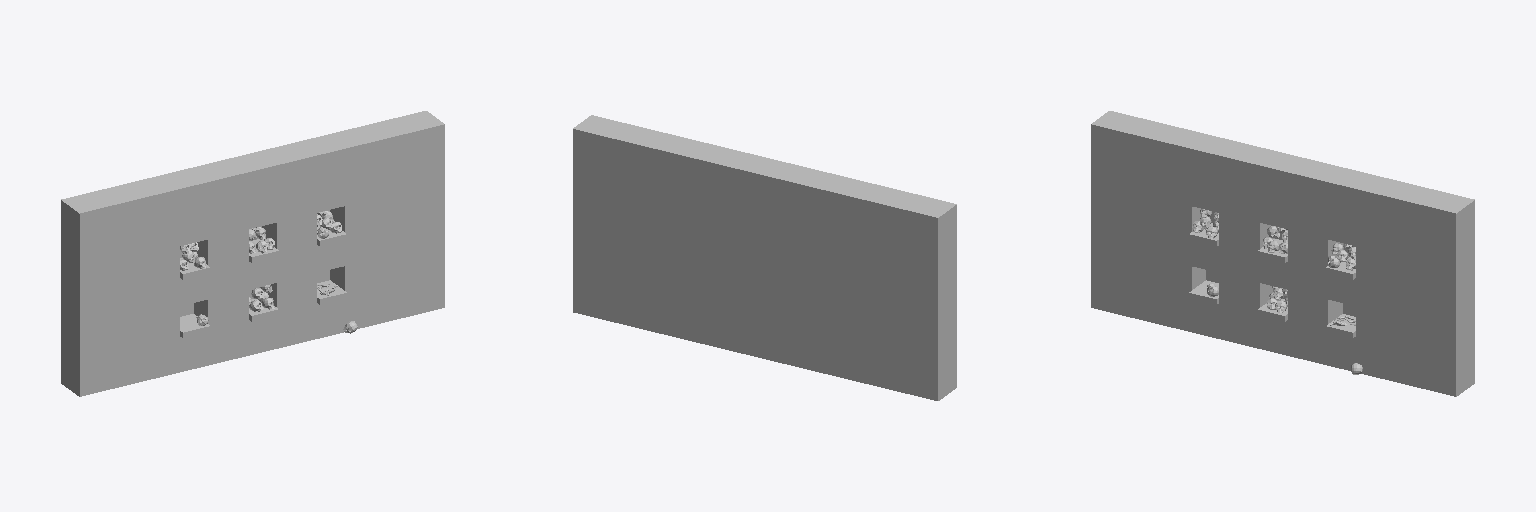
Rendered from CatacombV4.obj.
3 views of the same model, side by side, from view 1: azimuth 30°, elevation 25°; view 2: azimuth 150°, elevation 25°; view 3: azimuth 330°, elevation 25° (orthographic).
Visible parts, largest first — view 1: CatacombV4; view 2: CatacombV4; view 3: CatacombV4.
Boxes of the visible parts, x1=… form: CatacombV4: x1=61, y1=111, x2=444, y2=396; CatacombV4: x1=573, y1=115, x2=956, y2=400; CatacombV4: x1=1091, y1=111, x2=1474, y2=396.
Bounding box in the file's own units: 53.56 × 25.68 × 6.35.